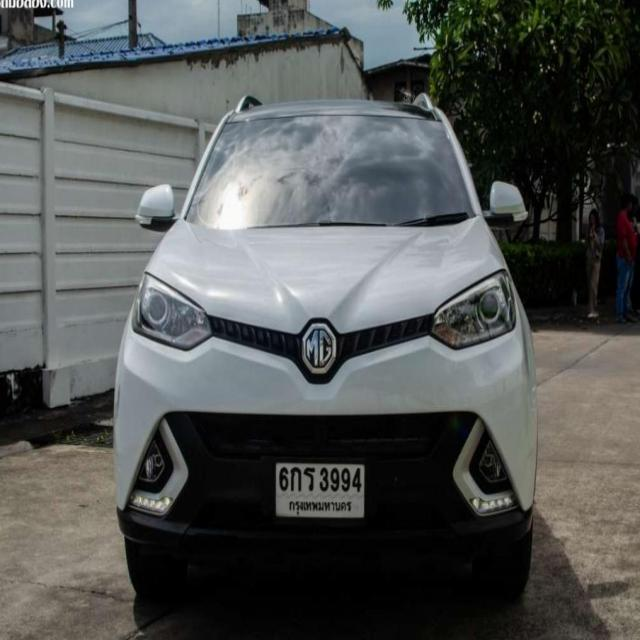license_plate: (271, 455, 369, 525)
